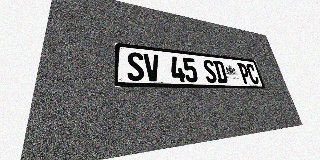4: (169, 56, 186, 82)
5: (182, 57, 199, 82)
C: (245, 64, 260, 84)
D: (213, 60, 228, 83)
P: (237, 63, 252, 84)
S: (127, 51, 145, 81), (202, 59, 218, 83)
V: (143, 53, 161, 82)
